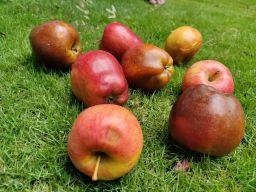apple: (53, 98, 150, 192), (163, 82, 252, 163), (62, 45, 134, 110), (19, 10, 87, 70), (119, 38, 176, 92), (97, 16, 155, 63), (180, 59, 237, 104), (165, 20, 205, 62)
